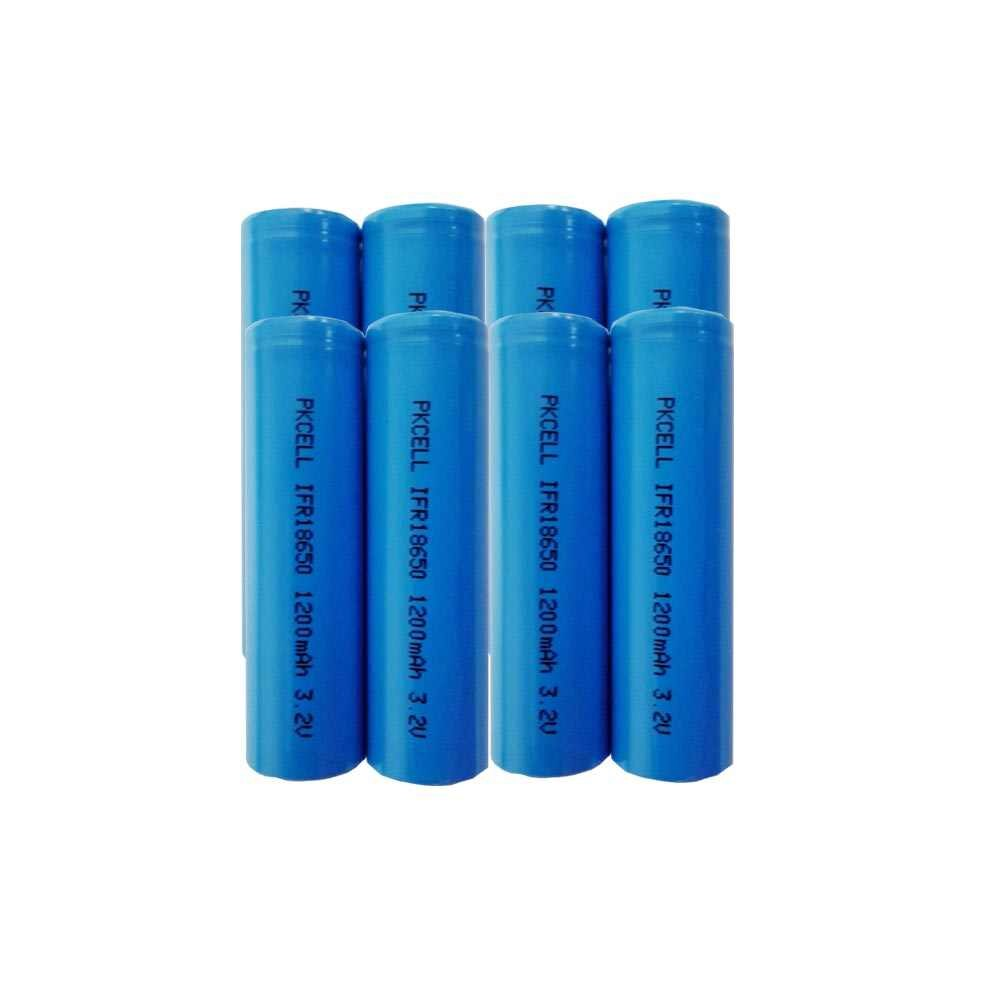Battery: (608, 304, 740, 782), (238, 310, 366, 785), (363, 309, 487, 789), (486, 310, 612, 778)
